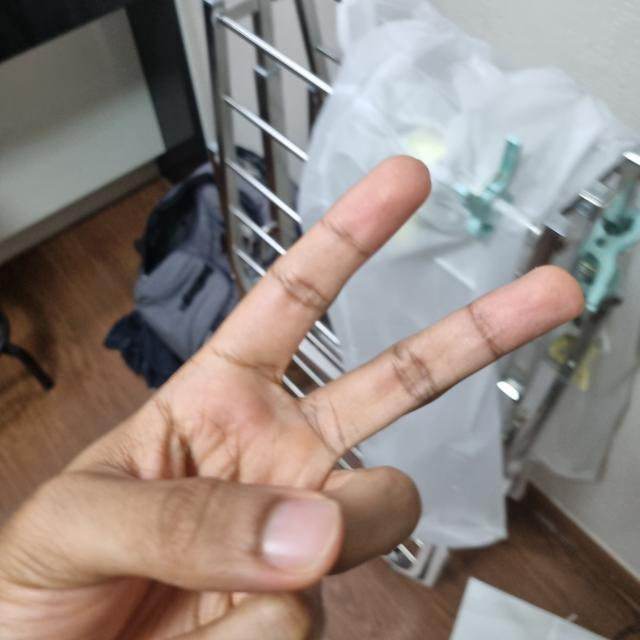Scissors: (0, 155, 581, 637)
